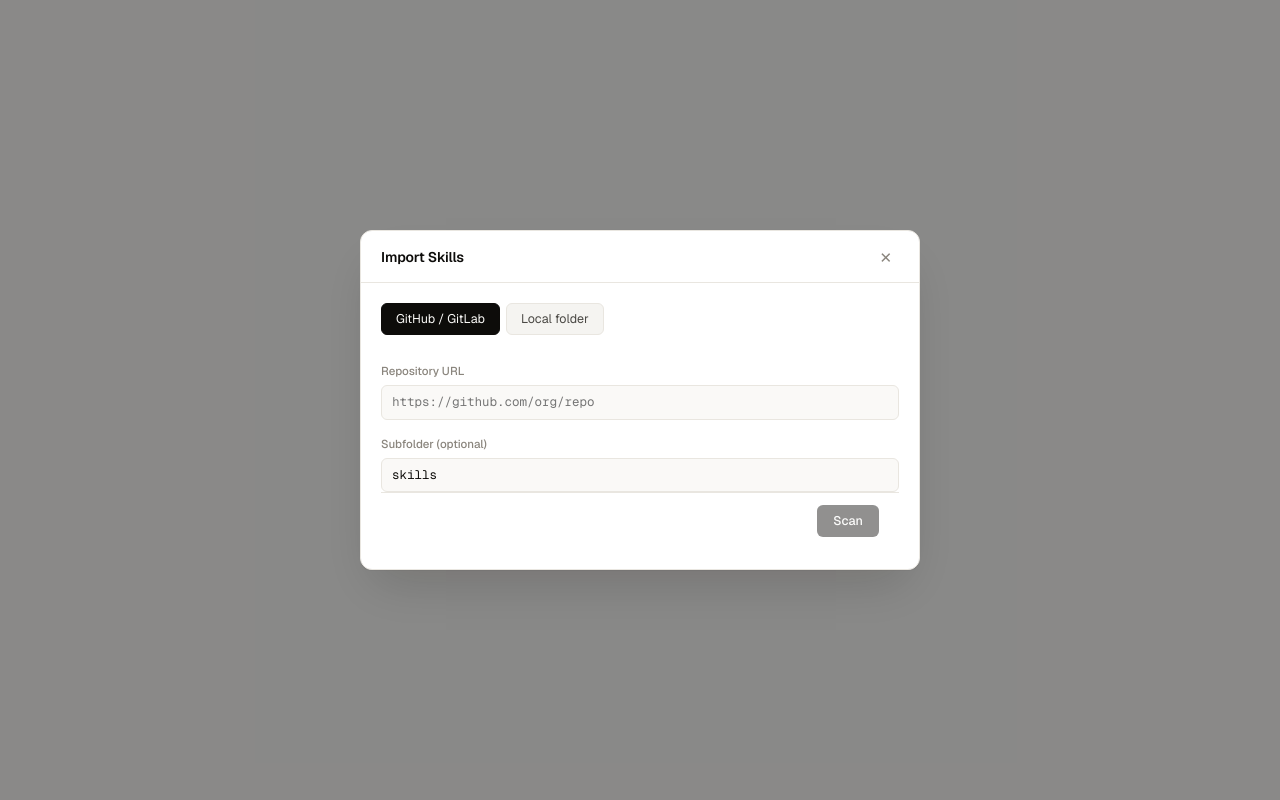
Test case: ImportSkillsModal — Step 1 › shows inline error when scan fails
Type "https://github.com/org/bad" into the field with test id "repo-url-input".
click(640, 402); type("https://github.com/org/bad")  # box [381,385,899,420]
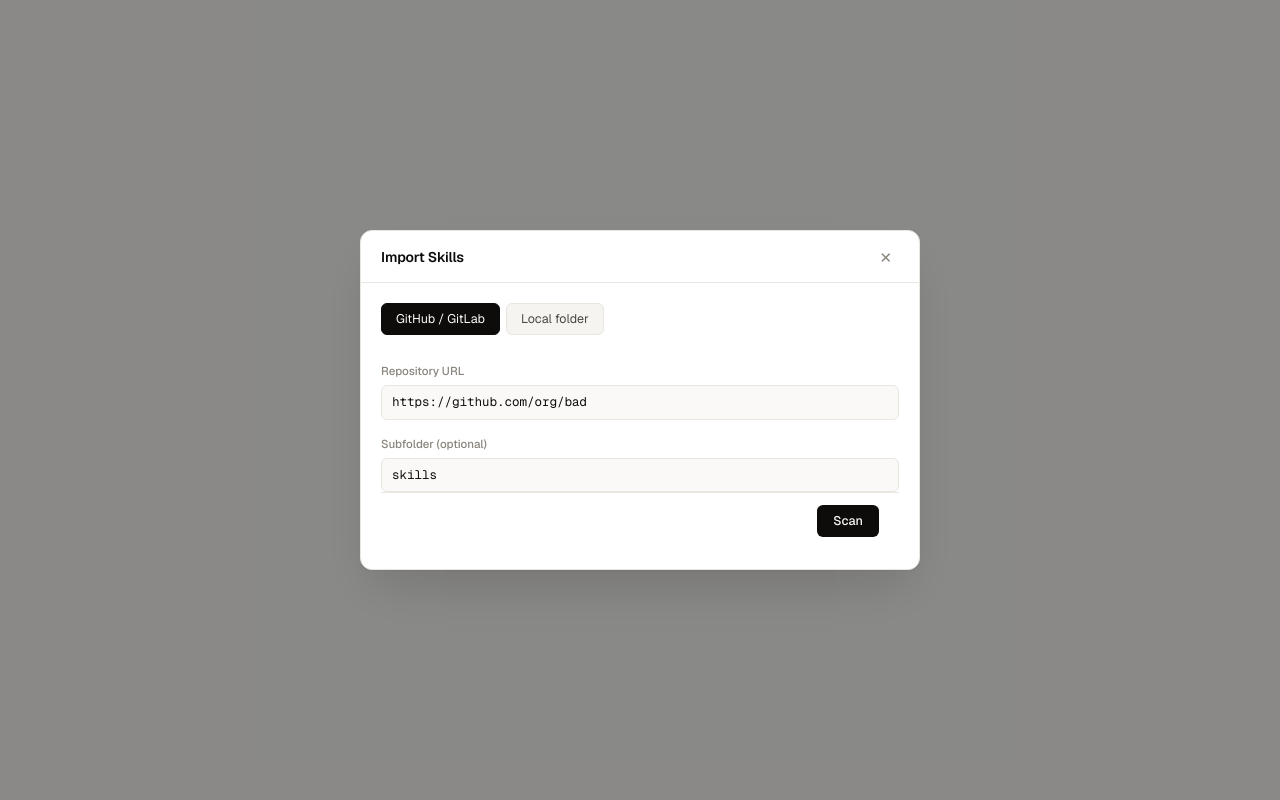
Click the button with test id "scan-btn".
click(848, 521)  # box [817,505,879,537]
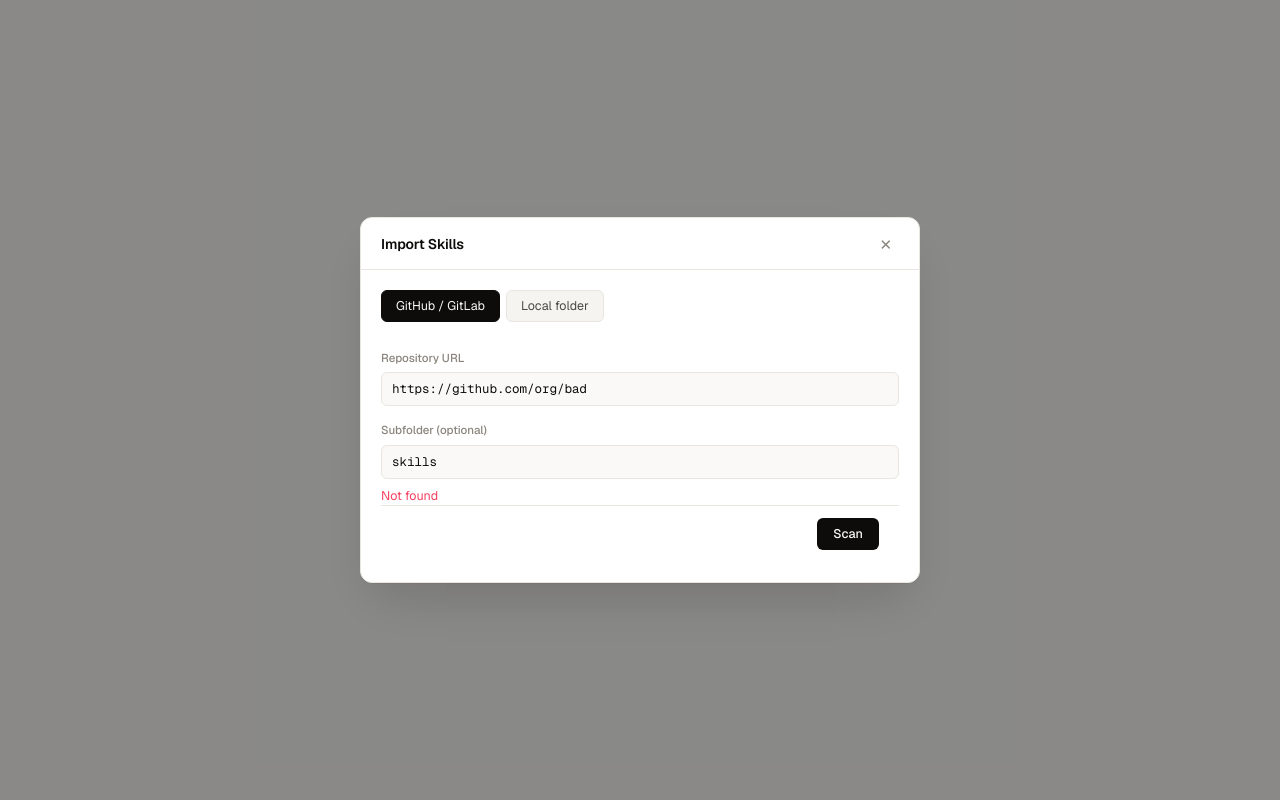
Now the text with test id "scan-error" reads "Not found", box [381,487,438,504]
